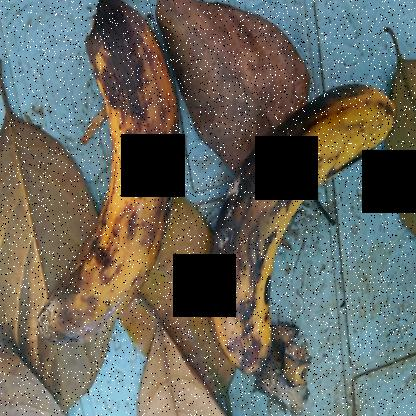rotten: (206, 54, 408, 380), (35, 1, 177, 364)
